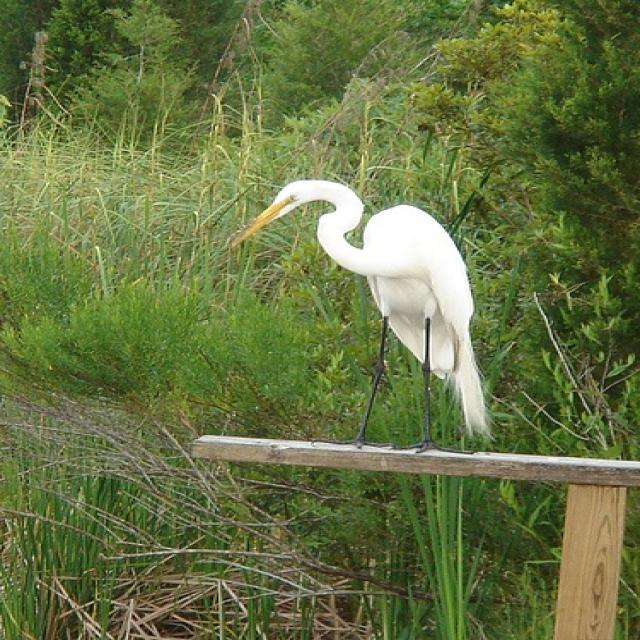bird: (228, 179, 496, 460)
